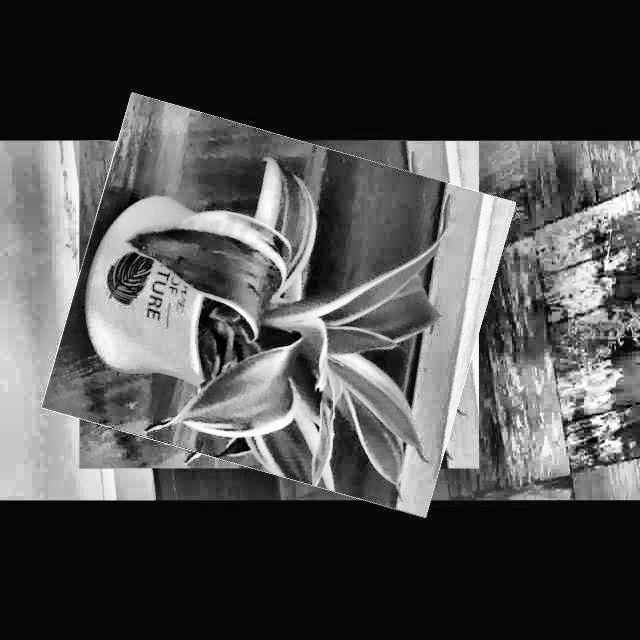plants: (60, 116, 498, 493)
